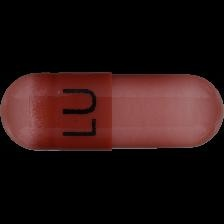68180-758: (0, 0, 224, 224)
